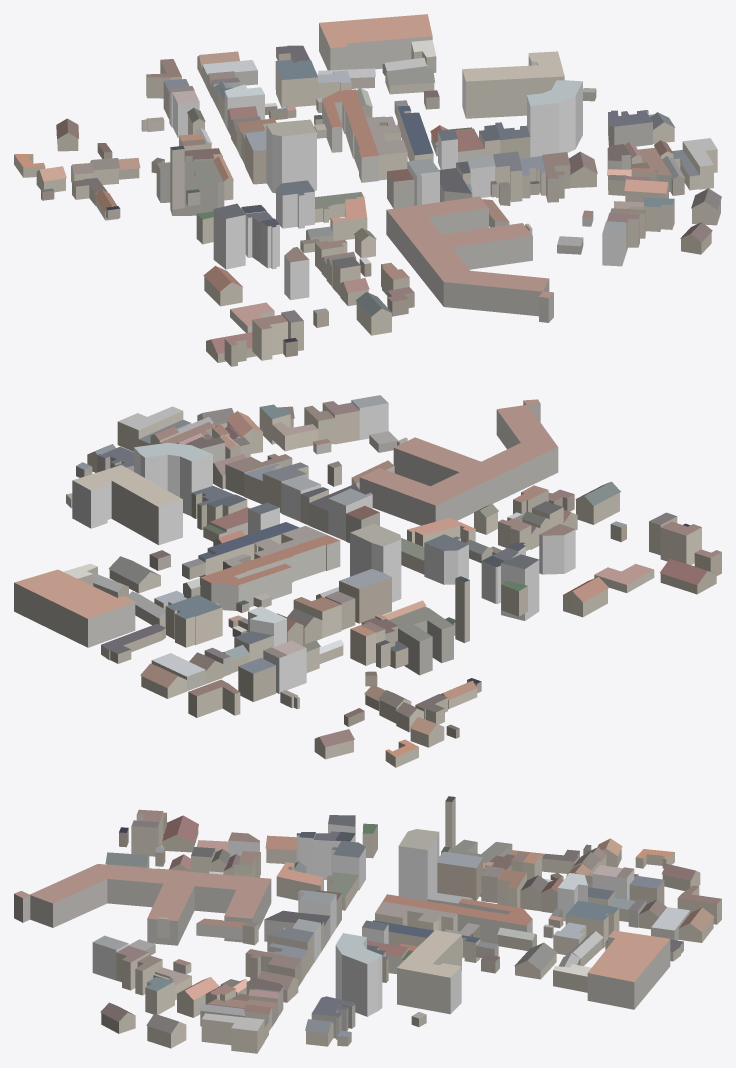
The picture shows the model from 3 angles, top to bottom: view 1: azimuth 30°, elevation 25°; view 2: azimuth 150°, elevation 25°; view 3: azimuth 270°, elevation 25°; orthographic projection. The views are drawn at different scales.
Parts seen in each view (by area): view 1: tuile; view 2: tuile; view 3: tuile.
Part boxes in pixels (bbox=[...]): tuile: bbox=[14, 14, 721, 366]; tuile: bbox=[14, 395, 721, 767]; tuile: bbox=[14, 796, 721, 1053].
Bounding box in the file's own units: 252 × 43.44 × 292.
